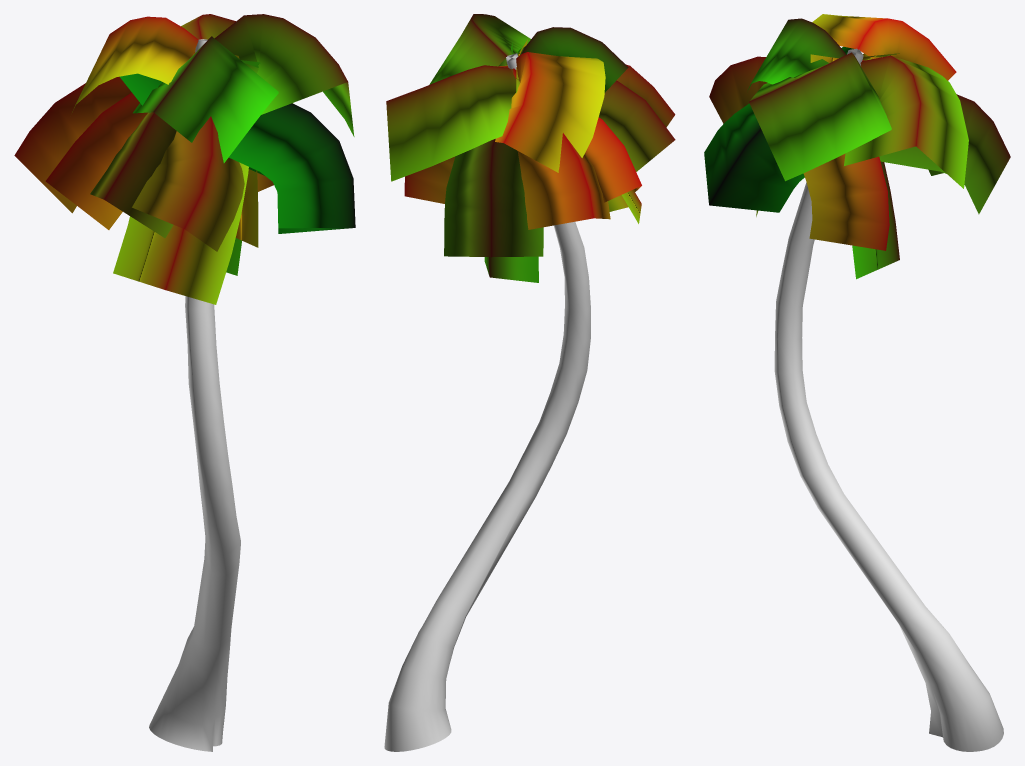
File: Type_7_Tree_8.fbx
3 renders of one model, left to right at view 1: azimuth 30°, elevation 25°; view 2: azimuth 150°, elevation 25°; view 3: azimuth 270°, elevation 25°, orthographic. The views are drawn at different scales.
Visible parts, largest first — view 1: Leaf, Trunk; view 2: Leaf, Trunk; view 3: Leaf, Trunk.
Boxes of the visible parts, x1,y1,x2,y2 form: Leaf: (14,14,355,304); Trunk: (149,39,240,751); Leaf: (386,14,675,282); Trunk: (384,53,590,751); Leaf: (704,14,1010,279); Trunk: (774,48,1003,751).
Bounding box in the file's own units: 766 × 2154 × 872.
